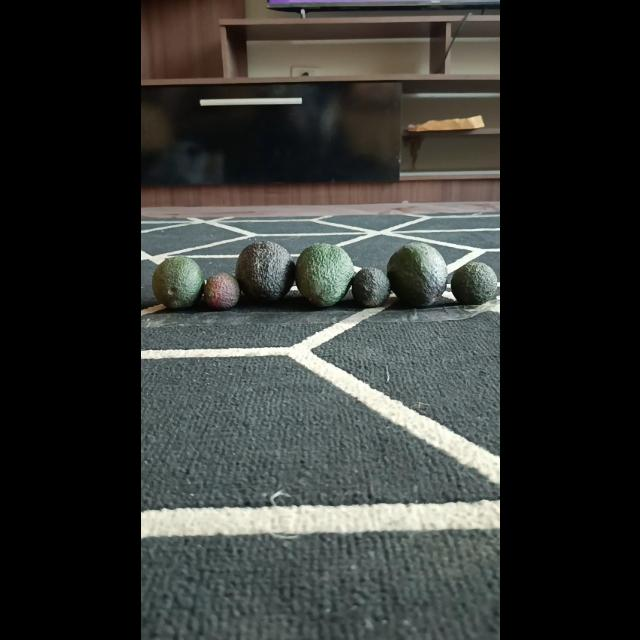Primera: (385, 242, 447, 306), (293, 242, 353, 306), (233, 240, 294, 302)
Segunda: (150, 256, 202, 310)
Tercera: (449, 261, 496, 305), (351, 267, 391, 307), (202, 271, 240, 311)
